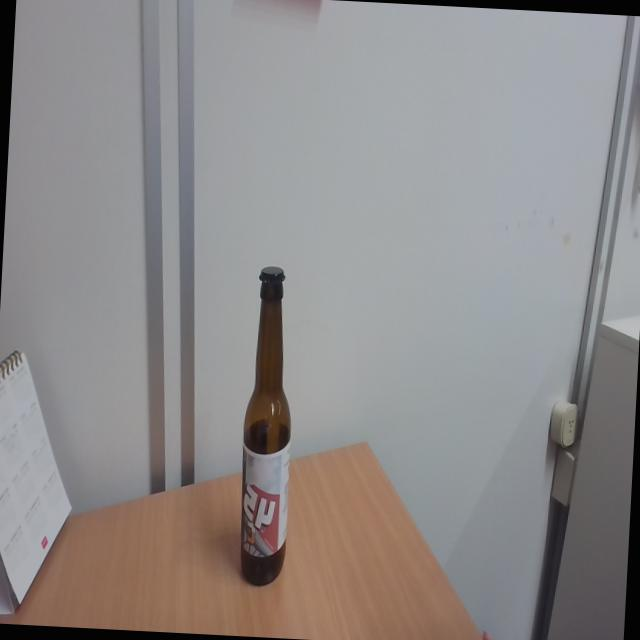Bottle: (236, 267, 302, 587)
Cap: (257, 264, 291, 286)
Label: (239, 440, 291, 560)
